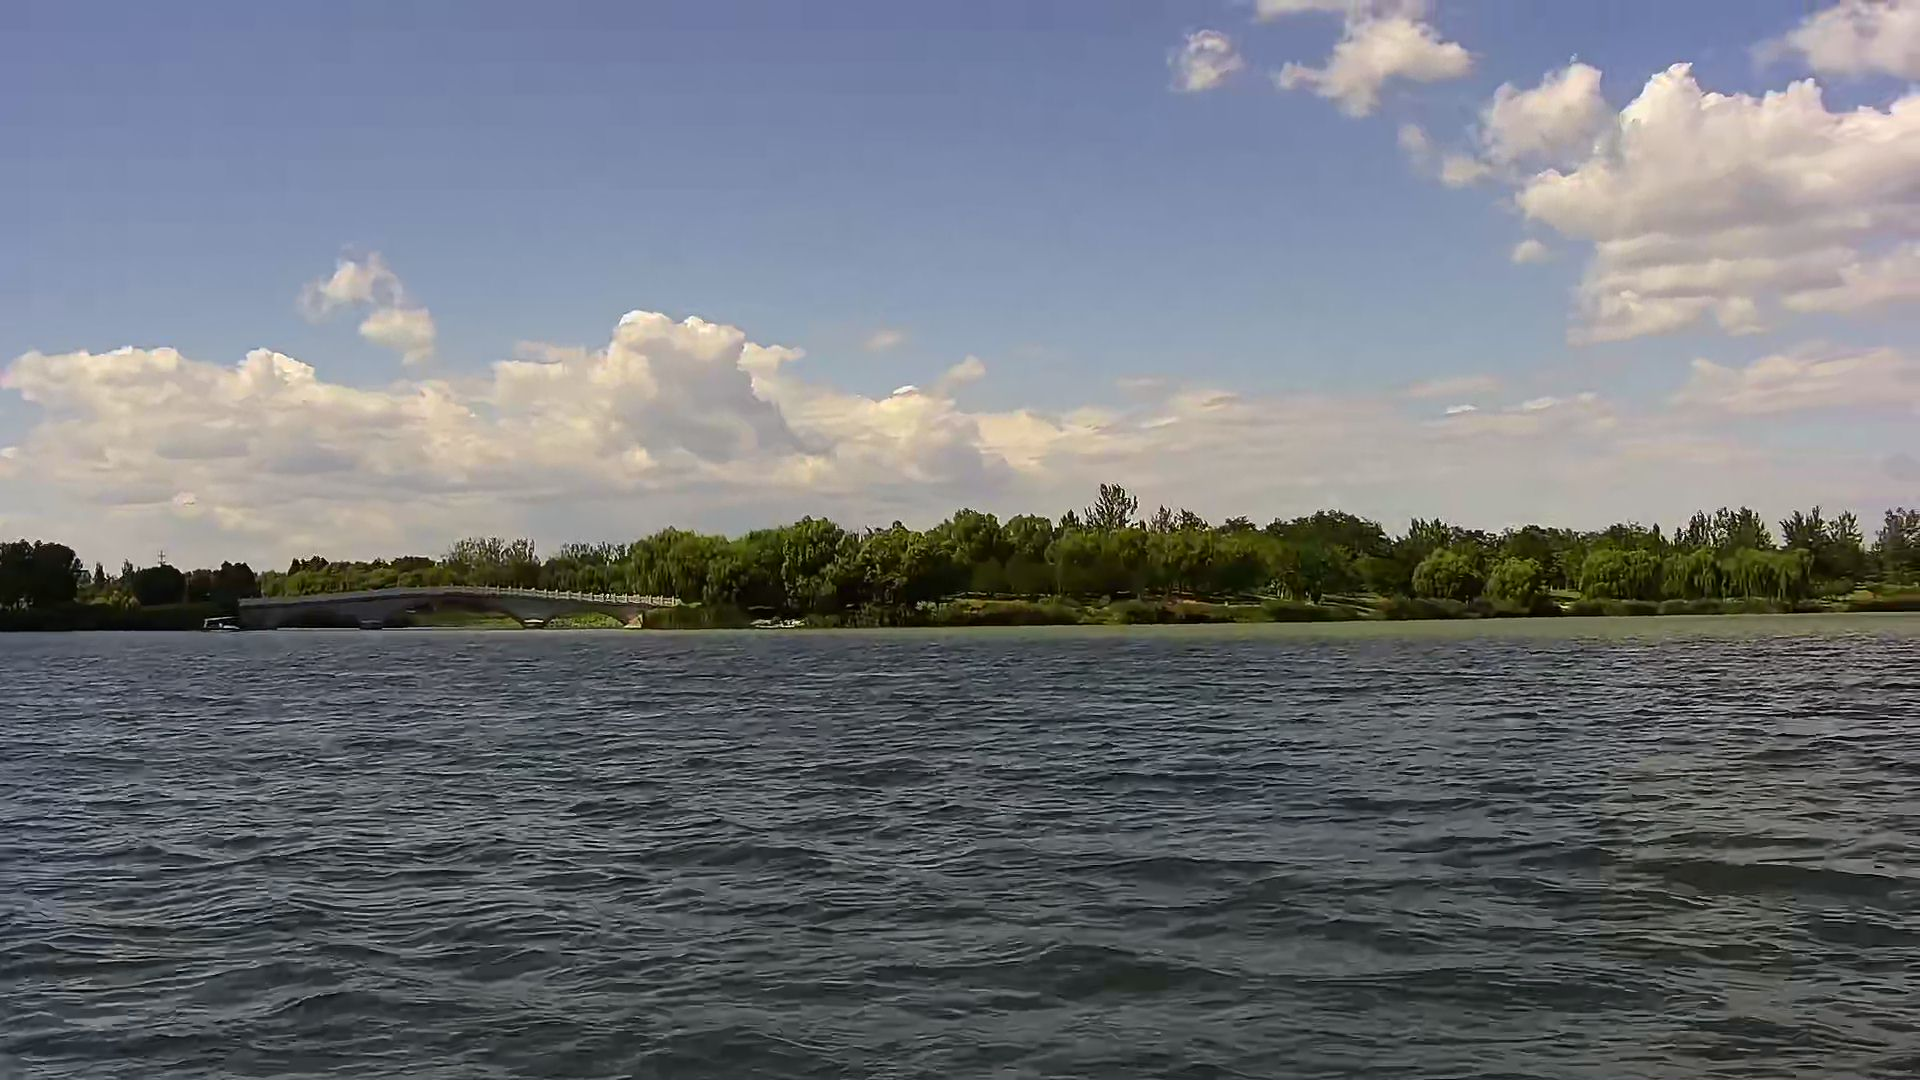bridge: (241, 585, 695, 632)
